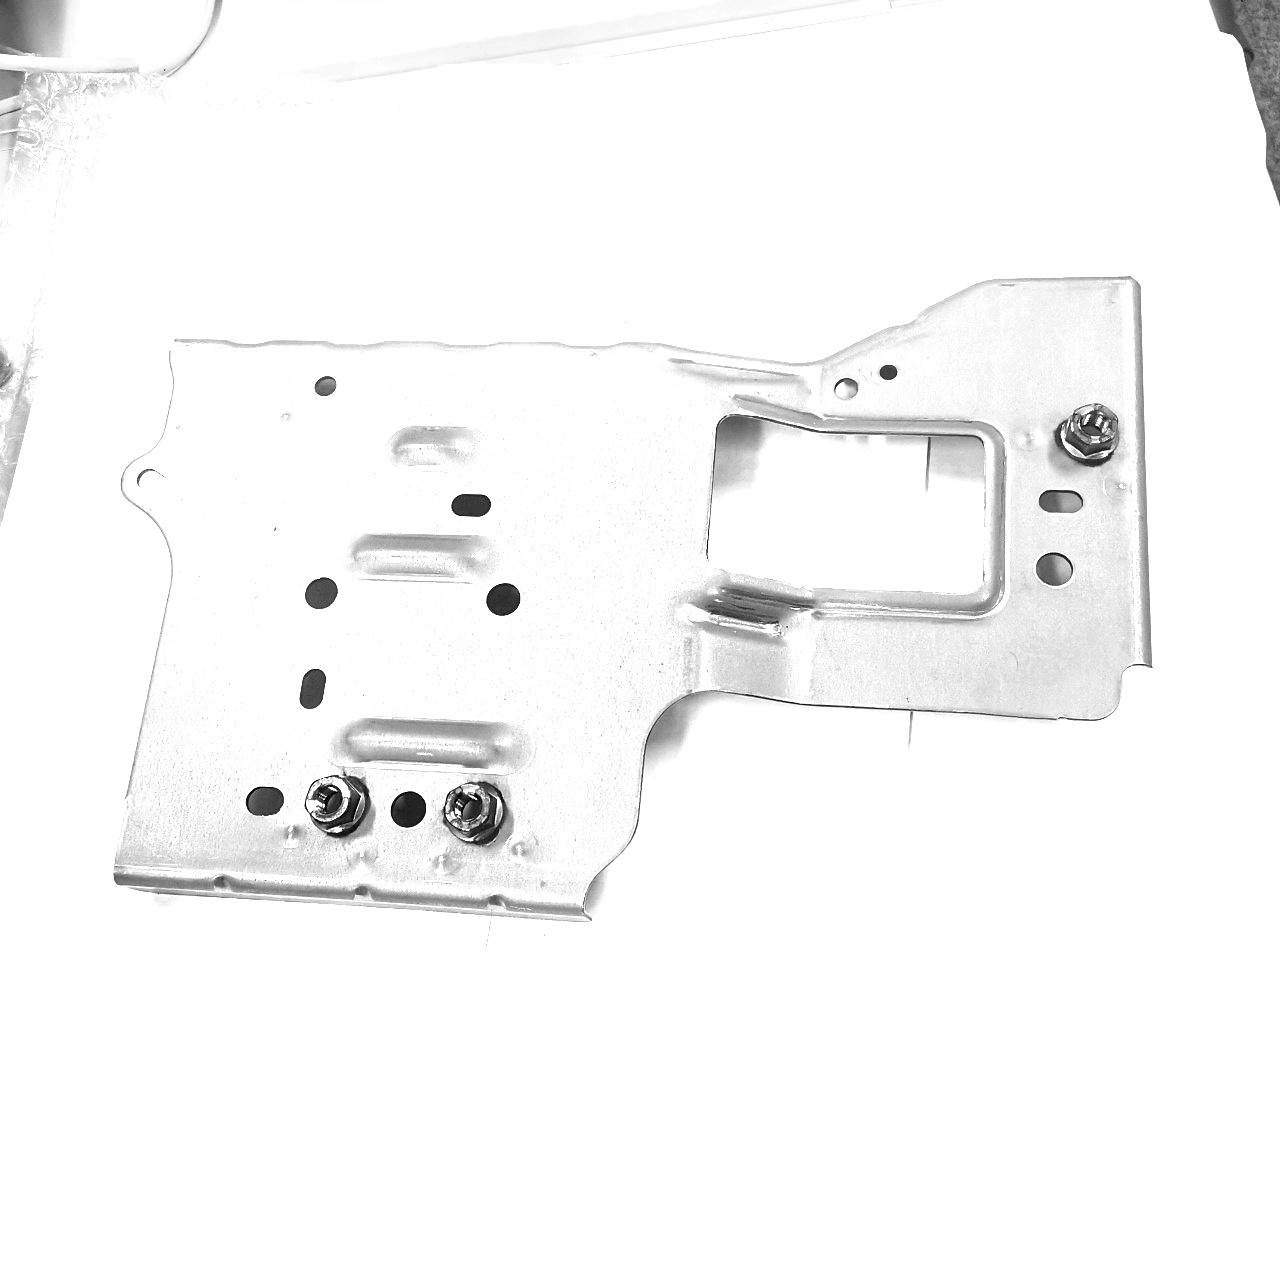dog: (436, 776, 510, 850), (1048, 400, 1121, 472), (300, 770, 374, 840)
